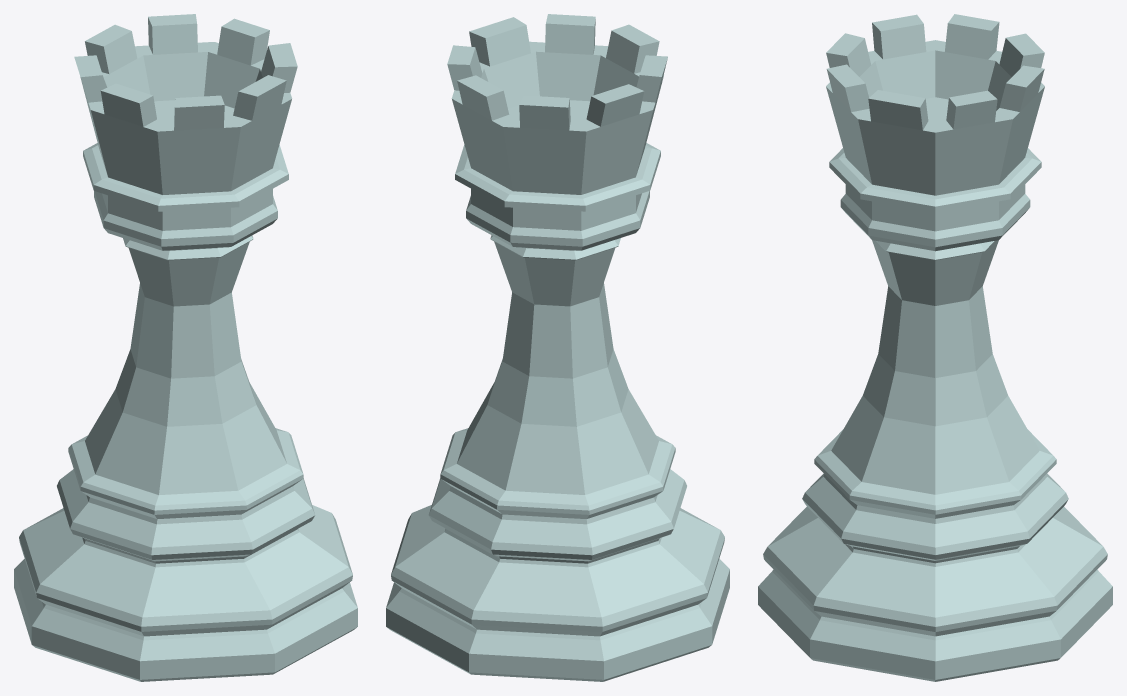
File: white-rook.obj
The picture shows the model from 3 angles, left to right: view 1: azimuth 30°, elevation 25°; view 2: azimuth 150°, elevation 25°; view 3: azimuth 270°, elevation 25°; orthographic projection.
Parts seen in each view (by area): view 1: White_Rook_02_White_Square.008_0; view 2: White_Rook_02_White_Square.008_0; view 3: White_Rook_02_White_Square.008_0.
Part boxes in pixels (bbox=[...]): White_Rook_02_White_Square.008_0: bbox=[14, 14, 357, 681]; White_Rook_02_White_Square.008_0: bbox=[386, 14, 729, 681]; White_Rook_02_White_Square.008_0: bbox=[758, 14, 1112, 681].
Size of the model in its own units: 3 by 5.11 by 3.
